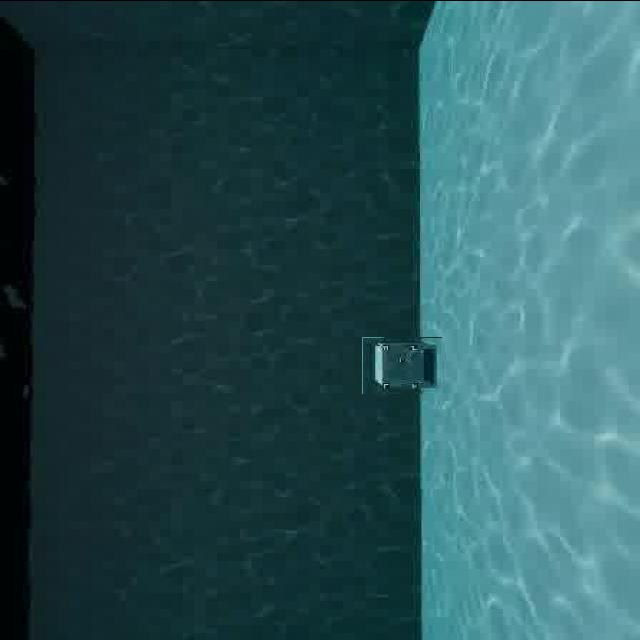Docking Station: (362, 336, 442, 393)
